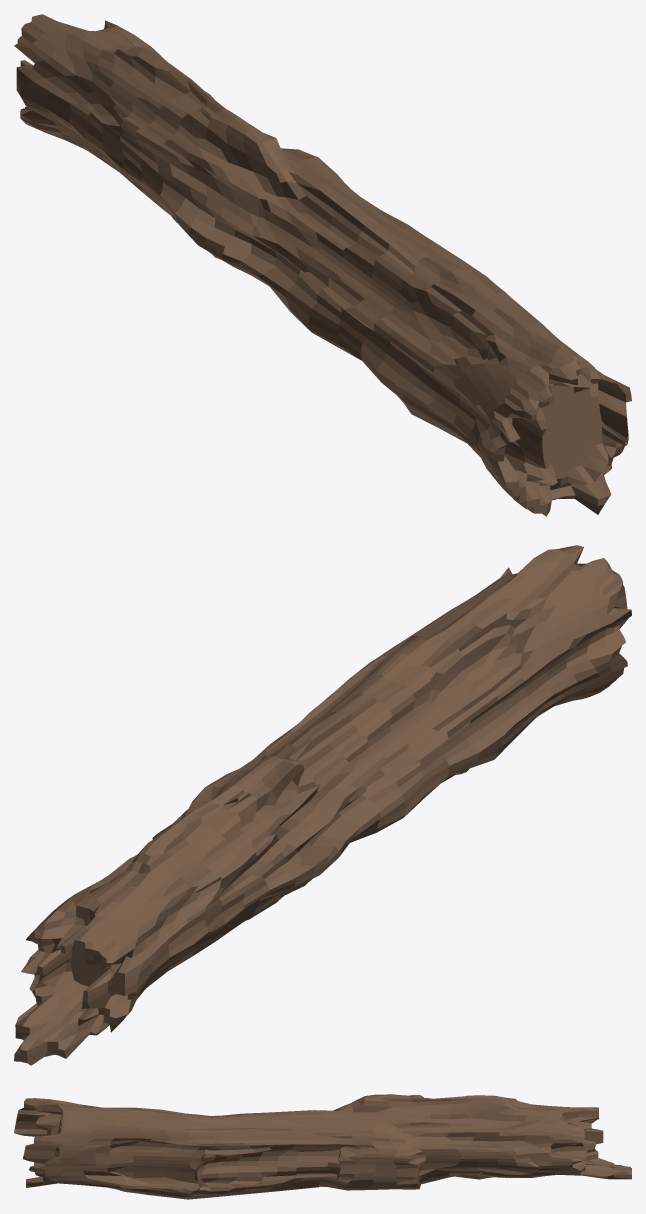
File: renkli kütük 3.fbx
The picture shows the model from 3 angles, top to bottom: view 1: azimuth 30°, elevation 25°; view 2: azimuth 150°, elevation 25°; view 3: azimuth 270°, elevation 25°; orthographic projection. The views are drawn at different scales.
Parts seen in each view (by area): view 1: Cylinder; view 2: Cylinder; view 3: Cylinder.
Boxes of the visible parts, x1,y1,x2,y2 form: Cylinder: (14,14,631,516); Cylinder: (14,545,631,1065); Cylinder: (14,1094,631,1199).
Bounding box in the file's own units: 217 × 219 × 1357.
